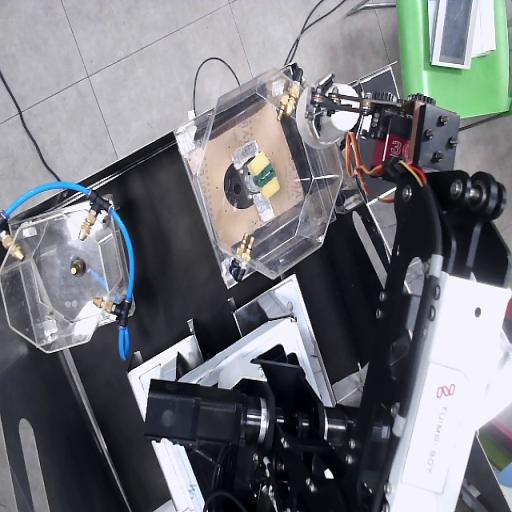cup in wash station: (296, 86, 358, 148), (327, 83, 355, 92)
